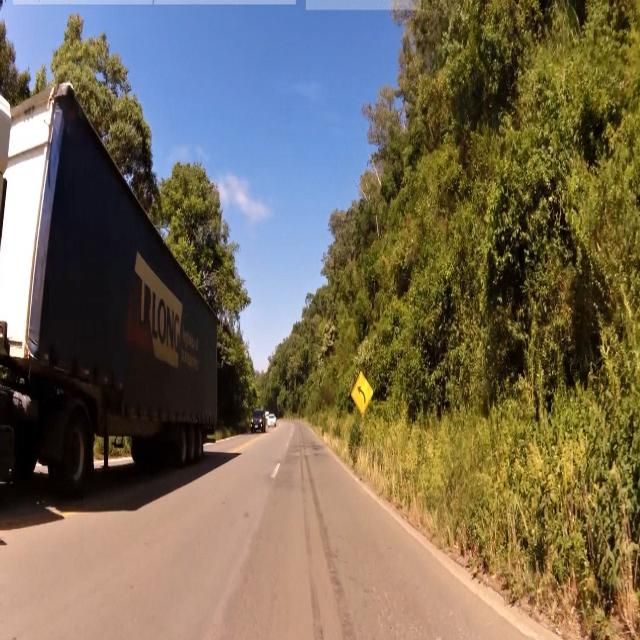A-2a: (351, 369, 373, 420)
